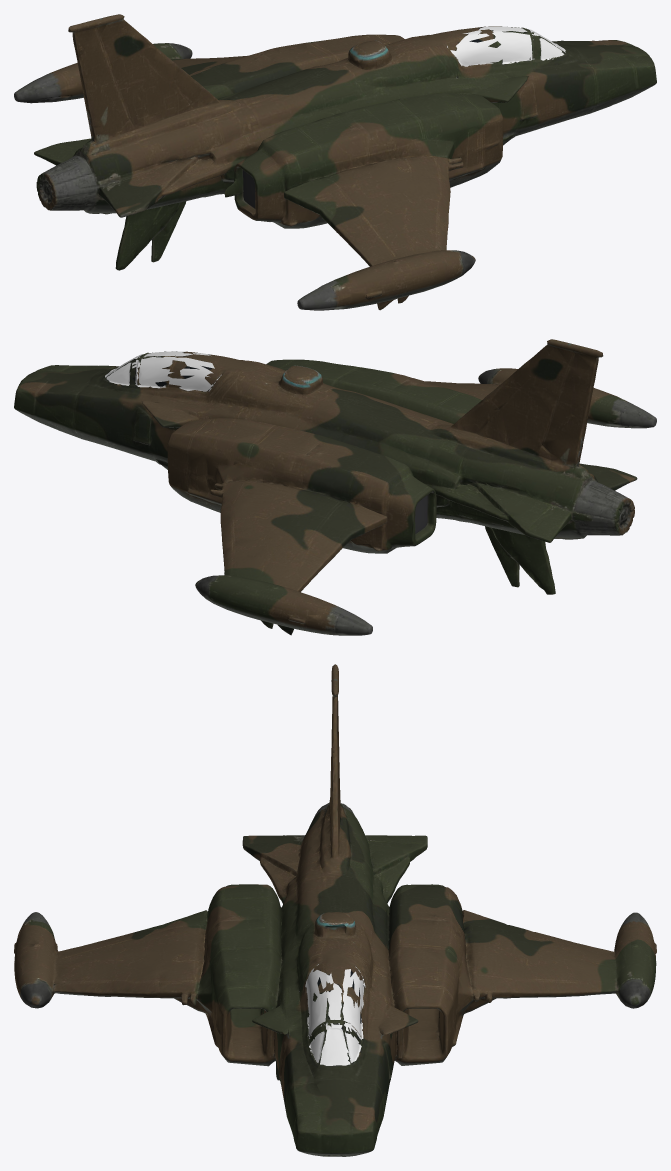
The model's file is fh_battle_attacker_t4.glb.
3 views of the same model, one above another, from view 1: azimuth 30°, elevation 25°; view 2: azimuth 150°, elevation 25°; view 3: azimuth 270°, elevation 25° (orthographic). The views are drawn at different scales.
Parts seen in each view (by area): view 1: fh_battle_attacker_t4; view 2: fh_battle_attacker_t4; view 3: fh_battle_attacker_t4.
Boxes of the visible parts, x1,y1,x2,y2 form: fh_battle_attacker_t4: (14, 14, 656, 310); fh_battle_attacker_t4: (14, 339, 656, 635); fh_battle_attacker_t4: (14, 664, 656, 1156).
Bounding box in the file's own units: 1 × 0.4079 × 0.878.
Materials: 2 (1 with a texture image).
